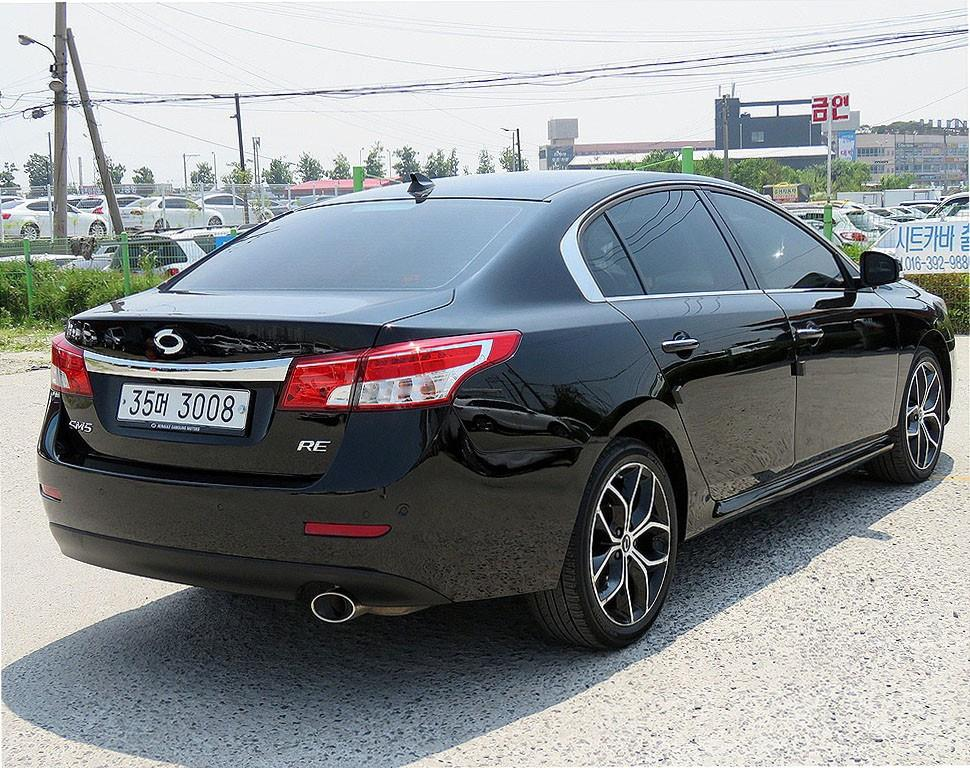plate: (117, 384, 250, 429)
